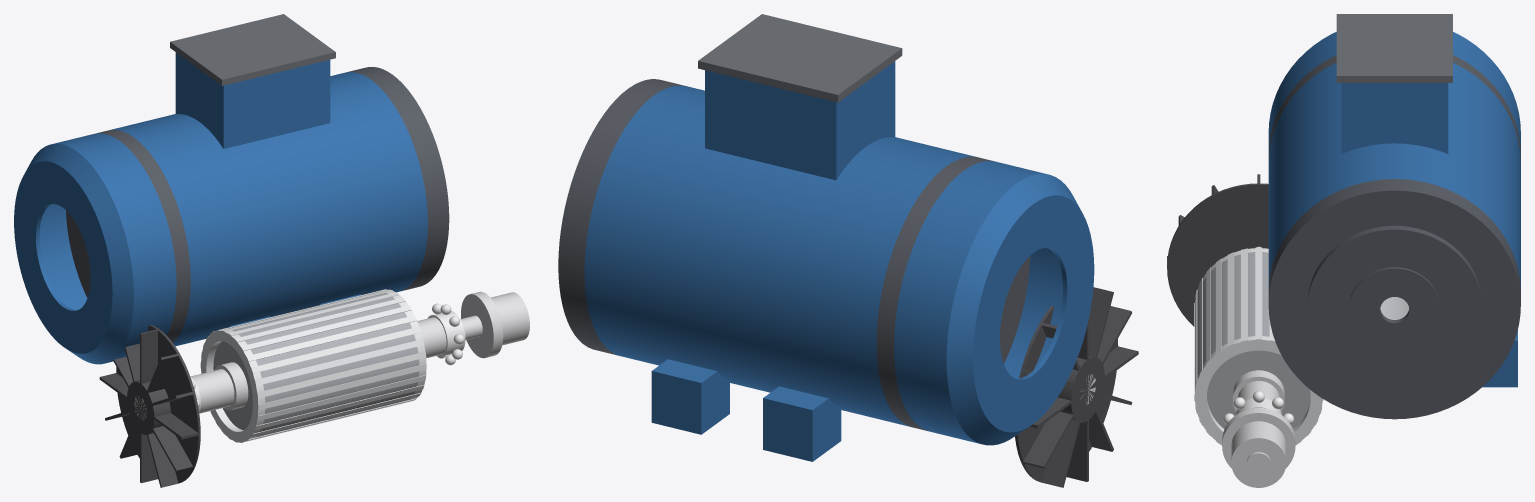
File: induction_motor.fbx
The picture shows the model from 3 angles, left to right: view 1: azimuth 30°, elevation 25°; view 2: azimuth 150°, elevation 25°; view 3: azimuth 270°, elevation 25°; orthographic projection. The views are drawn at different scales.
Visible parts, largest first — view 1: Frame_Housing, Fan_Cover, Rotor_Core, Fan, Terminal_Box, Terminal_Box_Lid, EndShield_DE, EndShield_NDE, Shaft, Coupling_Hub, Rotor_End_Ring_NDE, Rotor_Bar_26 (+11 smaller); view 2: Frame_Housing, Fan_Cover, Terminal_Box, Fan, Terminal_Box_Lid, EndShield_DE, EndShield_NDE; view 3: EndShield_DE, Frame_Housing, Terminal_Box_Lid, Fan, Rotor_Core, Terminal_Box, Coupling_Hub, Fan_Cover, Rotor_End_Ring_DE, Shaft, EndShield_NDE, Rotor_Bar_21 (+6 smaller).
Boxes of the visible parts, bbox=[...] form: Frame_Housing: bbox=[111, 72, 427, 346]; Fan_Cover: bbox=[14, 133, 176, 364]; Rotor_Core: bbox=[213, 291, 419, 437]; Fan: bbox=[99, 324, 200, 487]; Terminal_Box: bbox=[175, 52, 330, 148]; Terminal_Box_Lid: bbox=[170, 14, 335, 85]; EndShield_DE: bbox=[347, 67, 449, 291]; EndShield_NDE: bbox=[66, 130, 190, 342]; Shaft: bbox=[134, 315, 482, 420]; Coupling_Hub: bbox=[461, 291, 529, 358]; Rotor_End_Ring_NDE: bbox=[201, 329, 265, 442]; Rotor_Bar_26: bbox=[250, 339, 424, 386]; Frame_Housing: bbox=[584, 85, 977, 461]; Fan_Cover: bbox=[894, 161, 1094, 445]; Terminal_Box: bbox=[705, 61, 895, 180]; Fan: bbox=[1015, 287, 1138, 487]; Terminal_Box_Lid: bbox=[698, 14, 902, 102]; EndShield_DE: bbox=[558, 79, 683, 355]; EndShield_NDE: bbox=[876, 156, 1030, 430]; EndShield_DE: bbox=[1268, 179, 1520, 419]; Frame_Housing: bbox=[1268, 63, 1520, 387]; Terminal_Box_Lid: bbox=[1336, 14, 1452, 82]; Fan: bbox=[1167, 174, 1268, 326]; Rotor_Core: bbox=[1195, 252, 1310, 428]; Terminal_Box: bbox=[1341, 83, 1448, 153]; Coupling_Hub: bbox=[1222, 407, 1295, 487]; Fan_Cover: bbox=[1268, 32, 1520, 153]; Rotor_End_Ring_DE: bbox=[1195, 336, 1322, 444]; Shaft: bbox=[1232, 370, 1284, 475]; EndShield_NDE: bbox=[1268, 55, 1520, 161]; Rotor_Bar_21: bbox=[1255, 247, 1262, 350].
Bounding box in the file's own units: 0.334 × 0.2814 × 0.2314.
